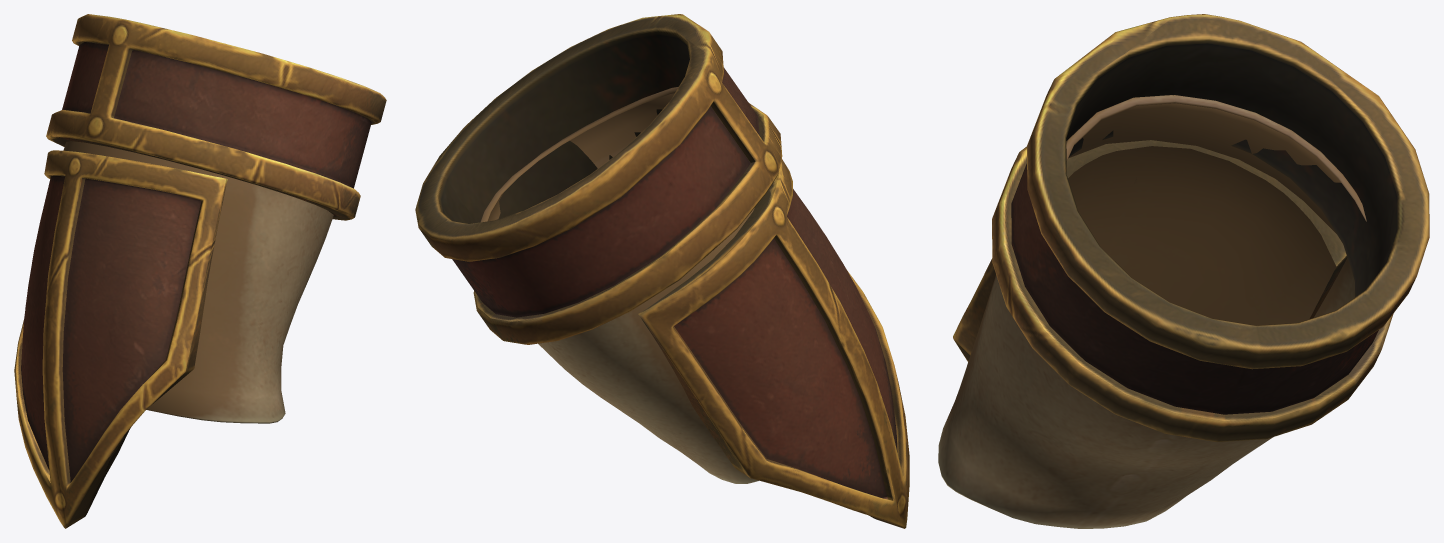
The model's file is sm_armor_dwarf_dhodin_hand_add.gltf.
3 renders of one model, left to right at view 1: azimuth 30°, elevation 25°; view 2: azimuth 150°, elevation 25°; view 3: azimuth 270°, elevation 25°, orthographic. The views are drawn at different scales.
Visible parts, largest first — view 1: sm_armor_dwarf_dhodin_hand_add; view 2: sm_armor_dwarf_dhodin_hand_add; view 3: sm_armor_dwarf_dhodin_hand_add.
Boxes of the visible parts, x1=… form: sm_armor_dwarf_dhodin_hand_add: x1=14, y1=14, x2=386, y2=528; sm_armor_dwarf_dhodin_hand_add: x1=415, y1=14, x2=909, y2=528; sm_armor_dwarf_dhodin_hand_add: x1=938, y1=14, x2=1429, y2=528.
Bounding box in the file's own units: 0.3743 × 0.4282 × 0.3401.
Materials: 1 (1 with a texture image).
